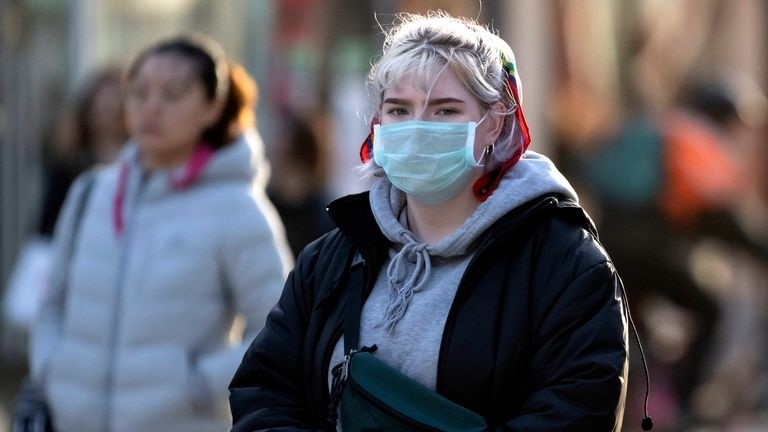face_no_mask: (122, 36, 225, 149)
face_with_mask: (365, 12, 526, 203)
